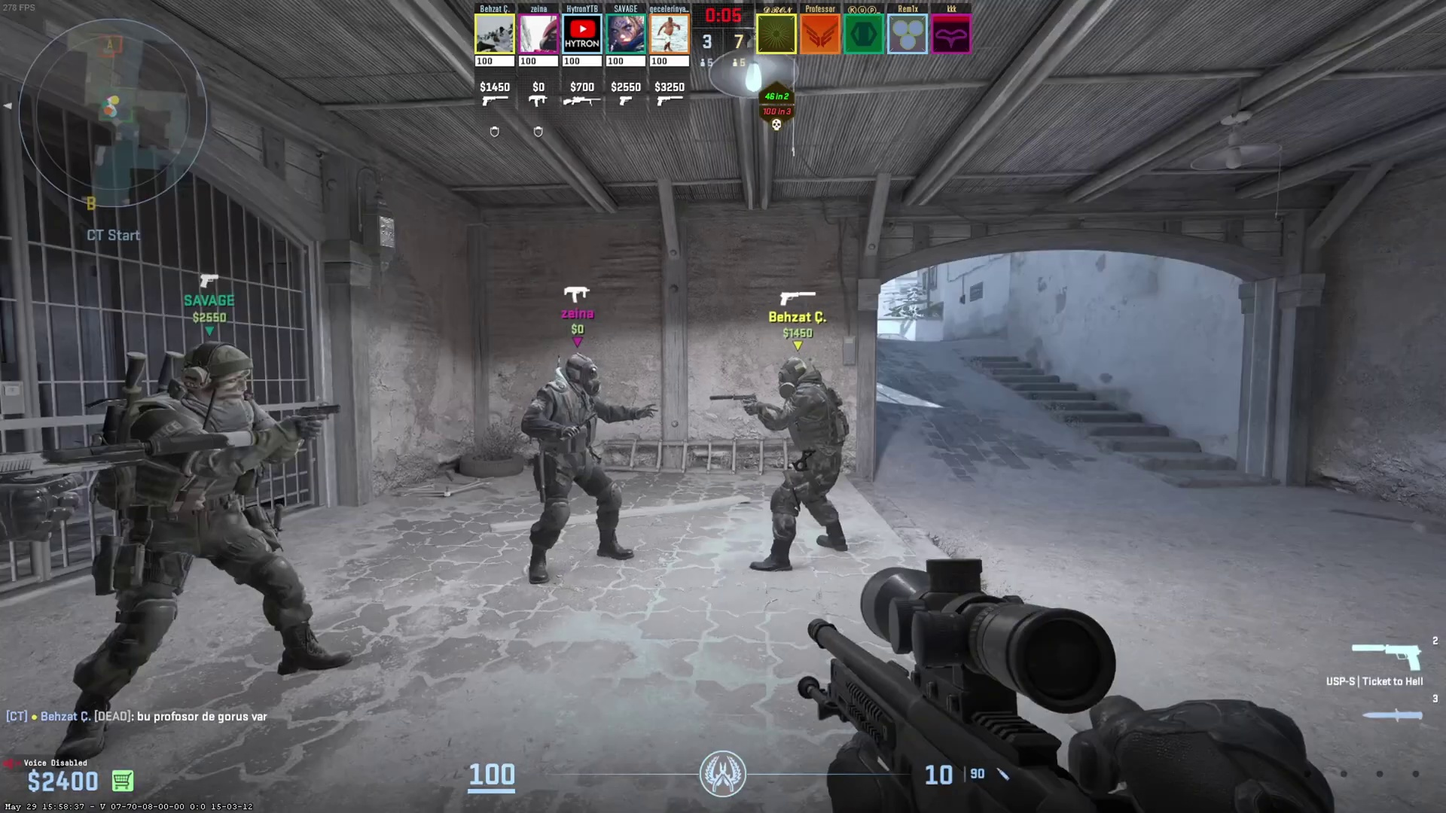CT: (73, 340, 337, 751), (528, 353, 636, 581), (748, 356, 850, 570)
